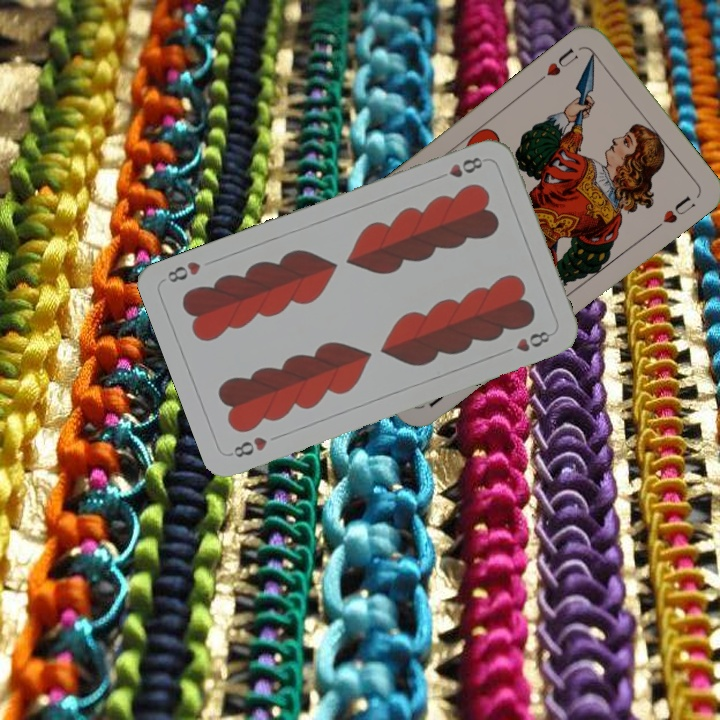H8: (432, 153, 485, 183), (226, 432, 270, 460)
HU: (534, 44, 582, 85)
